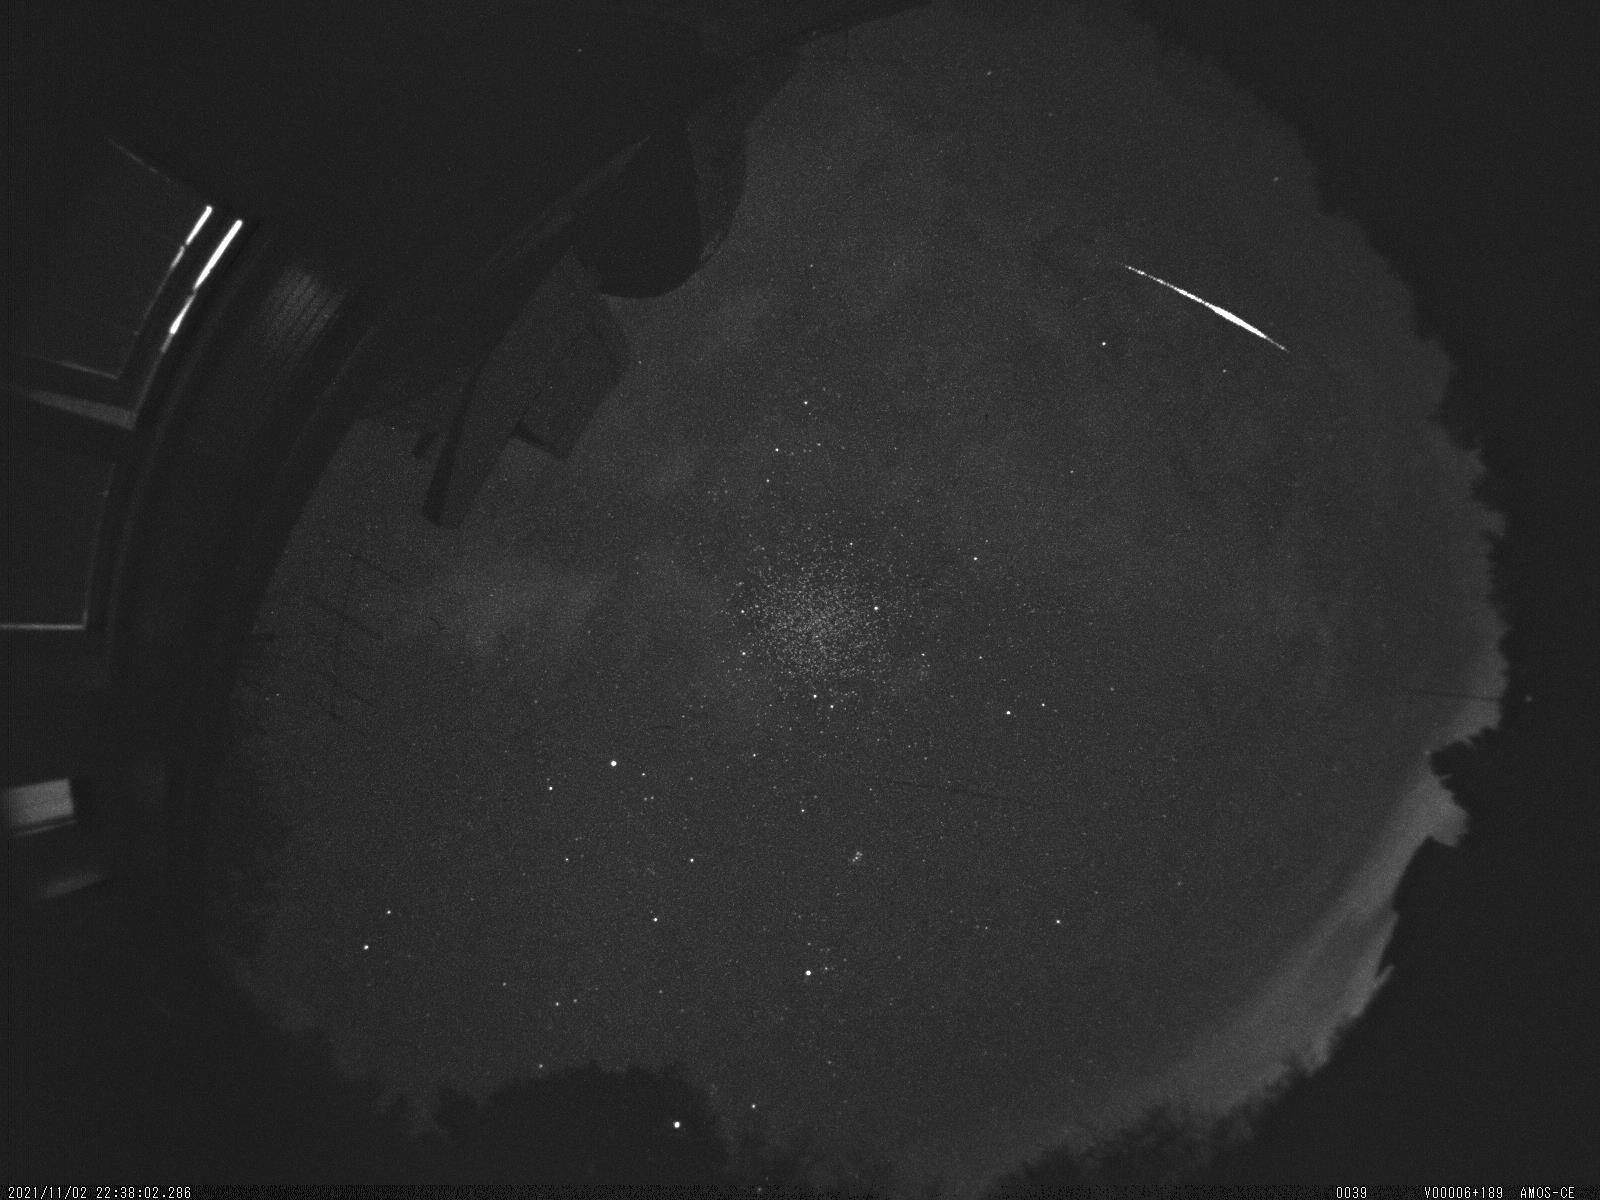Meteor: (1114, 251, 1305, 366)
